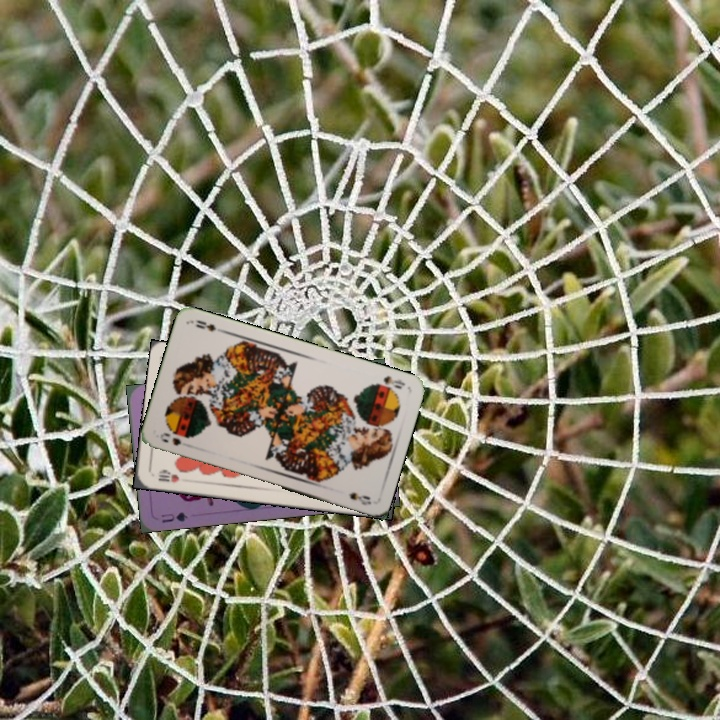GU: (157, 508, 190, 525)
H10: (154, 466, 182, 485)
SO: (371, 371, 408, 392), (156, 428, 184, 448)
